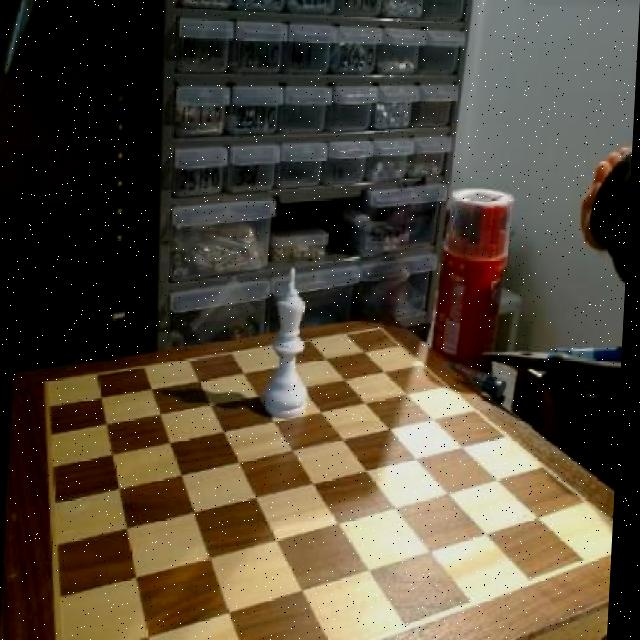white-bishop: (265, 266, 318, 418)
